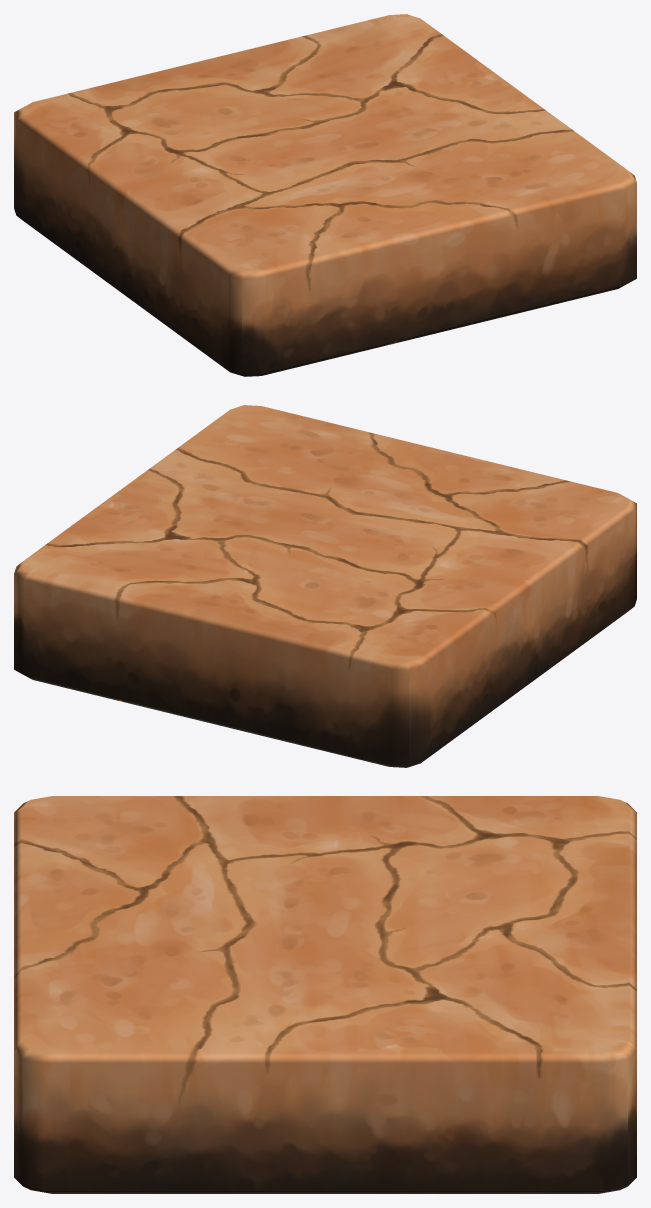
The model's file is PanelA_geo.fbx.
3 views of the same model, one above another, from view 1: azimuth 30°, elevation 25°; view 2: azimuth 150°, elevation 25°; view 3: azimuth 270°, elevation 25° (orthographic). The views are drawn at different scales.
Parts seen in each view (by area): view 1: Panel_01; view 2: Panel_01; view 3: Panel_01.
Part boxes in pixels (x1,y1,x2,y2): Panel_01: (14,14,636,376); Panel_01: (14,405,636,767); Panel_01: (14,796,636,1193).
Size of the model in its own units: 100 by 25 by 100.
Materials: 1 (1 with a texture image).
